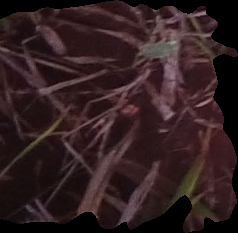soil: (1, 3, 236, 230)
